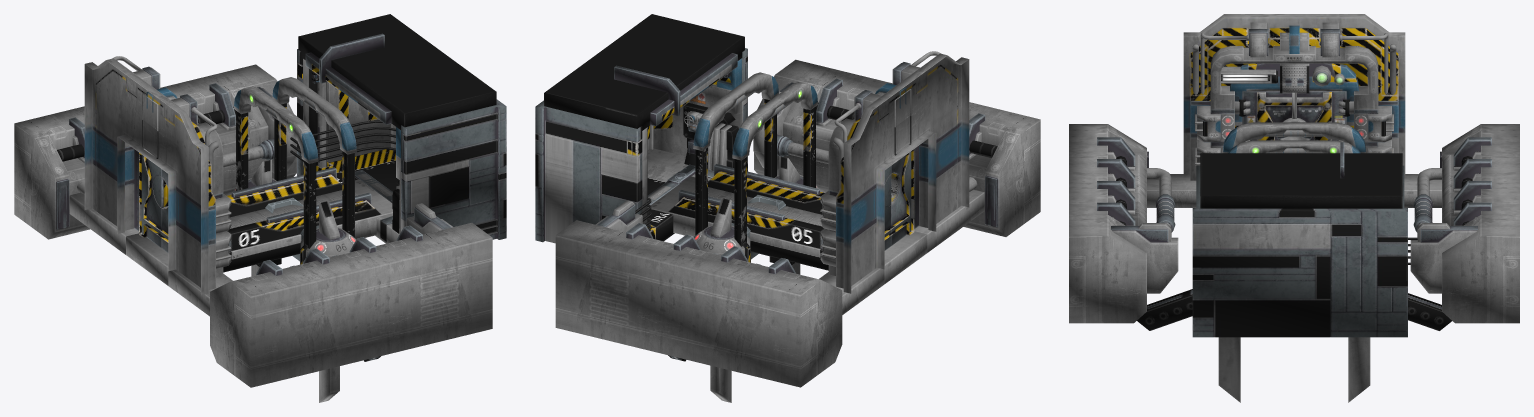
3 renders of one model, left to right at view 1: azimuth 30°, elevation 25°; view 2: azimuth 150°, elevation 25°; view 3: azimuth 270°, elevation 25°, orthographic. The views are drawn at different scales.
Parts seen in each view (by area): view 1: mur_encadrement_low, porte_09_low, plafond_low, mur_piece_low, pont_arche_low, pont_rambarde_low, sol_low, pont_low, props_tuyau_02_low, mur_bottom_low, porte_01_low, props_array_low (+5 smaller); view 2: mur_encadrement_low, porte_09_low, plafond_low, mur_piece_low, pont_arche_low, pont_rambarde_low, pont_low, sol_low, mur_front_low, porte_01_low, props_array_low, porte_10_low (+8 smaller); view 3: mur_piece_low, mur_encadrement_low, porte_09_low, plafond_low, pont_arche_low, mur_encadrement_01_low, props_array_low, porte_10_low, porte_03_low, porte_05_low, tuyau_encadrement_low, porte_02_low (+5 smaller).
Boxes of the visible parts, bbox=[...] form: mur_encadrement_low: bbox=[14, 64, 492, 387]; porte_09_low: bbox=[84, 58, 223, 295]; plafond_low: bbox=[298, 14, 496, 129]; mur_piece_low: bbox=[297, 49, 506, 239]; pont_arche_low: bbox=[233, 77, 380, 402]; pont_rambarde_low: bbox=[226, 167, 381, 251]; sol_low: bbox=[69, 149, 399, 316]; pont_low: bbox=[126, 179, 392, 285]; props_tuyau_02_low: bbox=[57, 33, 395, 161]; mur_bottom_low: bbox=[303, 59, 390, 165]; porte_01_low: bbox=[134, 149, 168, 252]; props_array_low: bbox=[69, 83, 422, 275]; mur_encadrement_low: bbox=[555, 59, 1040, 387]; porte_09_low: bbox=[828, 53, 969, 293]; plafond_low: bbox=[544, 14, 744, 130]; mur_piece_low: bbox=[535, 48, 747, 243]; pont_arche_low: bbox=[668, 72, 818, 402]; pont_rambarde_low: bbox=[668, 164, 825, 249]; pont_low: bbox=[647, 176, 927, 283]; sol_low: bbox=[647, 148, 984, 314]; mur_front_low: bbox=[653, 58, 741, 165]; porte_01_low: bbox=[884, 146, 918, 250]; props_array_low: bbox=[626, 78, 985, 273]; porte_10_low: bbox=[833, 51, 940, 240]; mur_piece_low: bbox=[1192, 165, 1407, 337]; mur_encadrement_low: bbox=[1069, 124, 1519, 323]; porte_09_low: bbox=[1183, 14, 1405, 180]; plafond_low: bbox=[1200, 153, 1402, 208]; pont_arche_low: bbox=[1137, 122, 1451, 402]; mur_encadrement_01_low: bbox=[1111, 223, 1477, 293]; props_array_low: bbox=[1097, 137, 1491, 225]; porte_10_low: bbox=[1192, 22, 1396, 140]; porte_03_low: bbox=[1195, 66, 1393, 165]; porte_05_low: bbox=[1277, 25, 1344, 139]; tuyau_encadrement_low: bbox=[1147, 168, 1441, 237]; porte_02_low: bbox=[1230, 63, 1358, 127].
Size of what is drawn, in the model's own units: 3.18 by 3.14 by 4.07.
9 materials, 9 textured.
